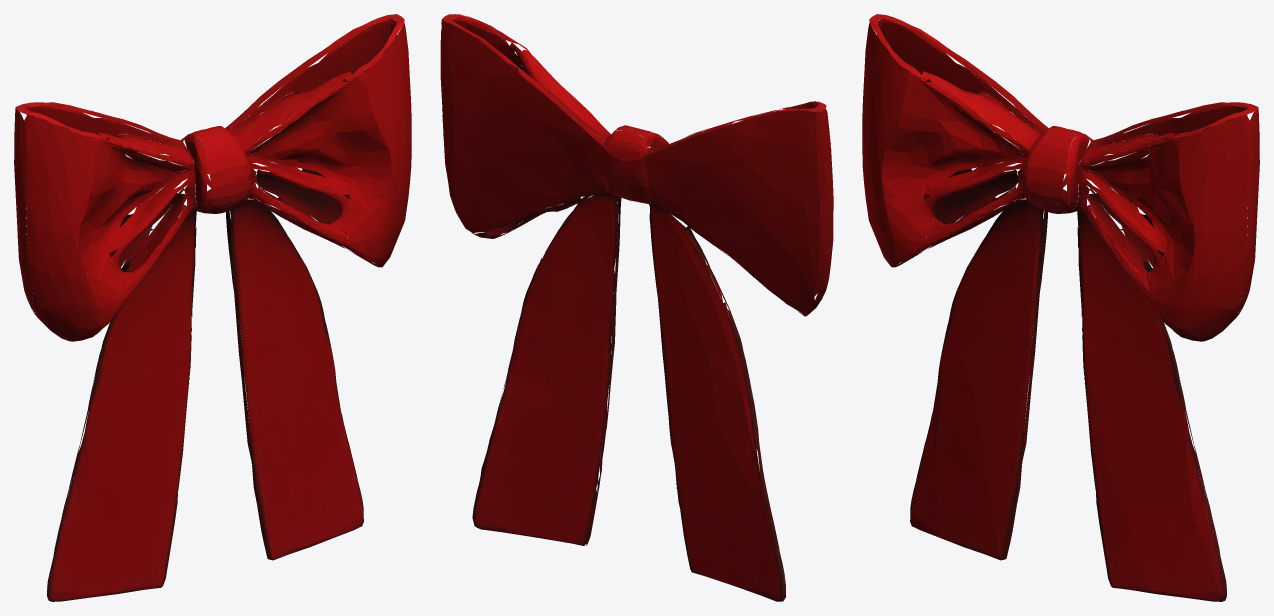
3 renders of one model, left to right at view 1: azimuth 30°, elevation 25°; view 2: azimuth 150°, elevation 25°; view 3: azimuth 330°, elevation 25°, orthographic.
Visible parts, largest first — view 1: geometry_0; view 2: geometry_0; view 3: geometry_0.
Part boxes in pixels (x1=…): geometry_0: x1=14, y1=14, x2=411, y2=601; geometry_0: x1=440, y1=14, x2=833, y2=601; geometry_0: x1=862, y1=14, x2=1259, y2=601.
Bounding box in the file's own units: 0.8062 × 0.9997 × 0.1455.
Materials: 1 (1 with a texture image).
